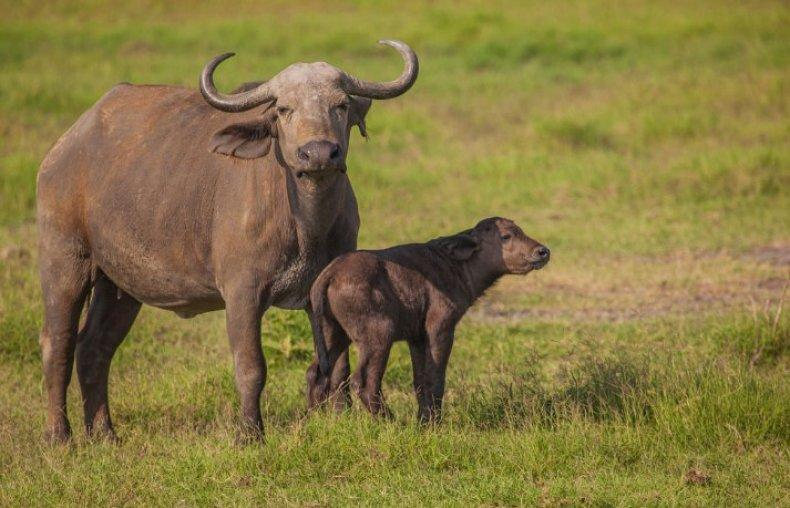Buffalo: (13, 32, 446, 258)
